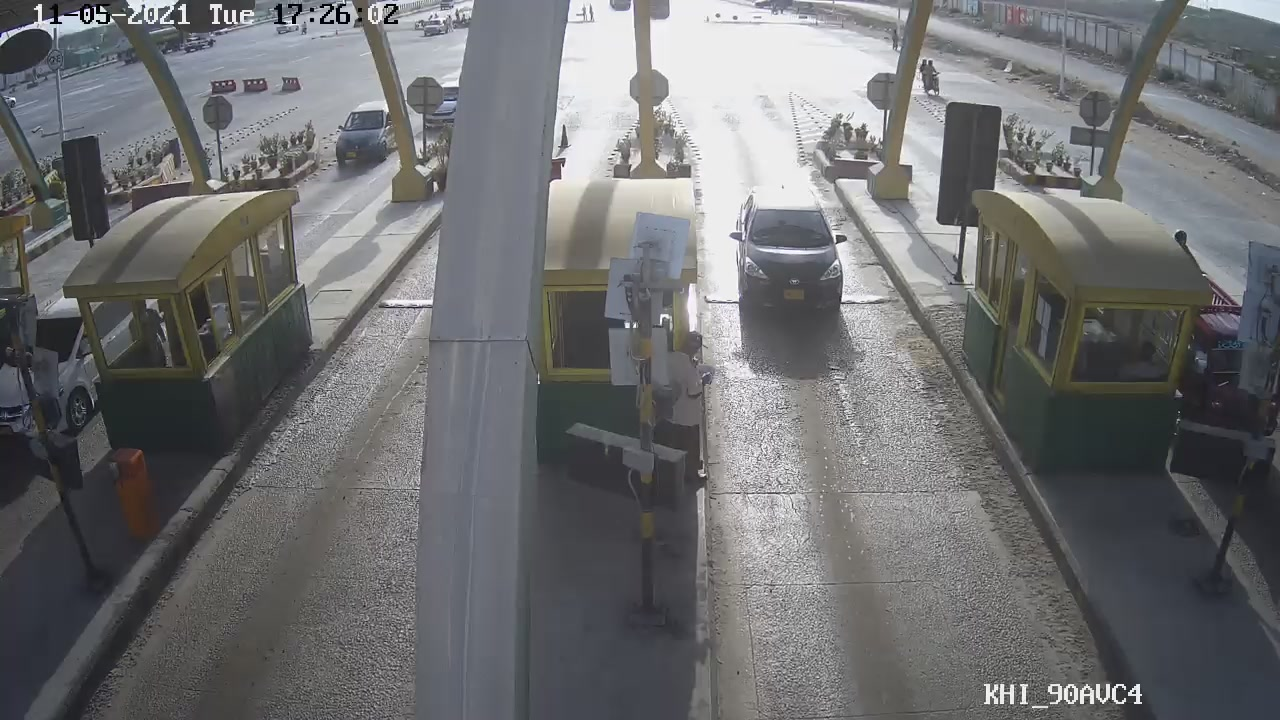F1: (730, 192, 863, 311)
